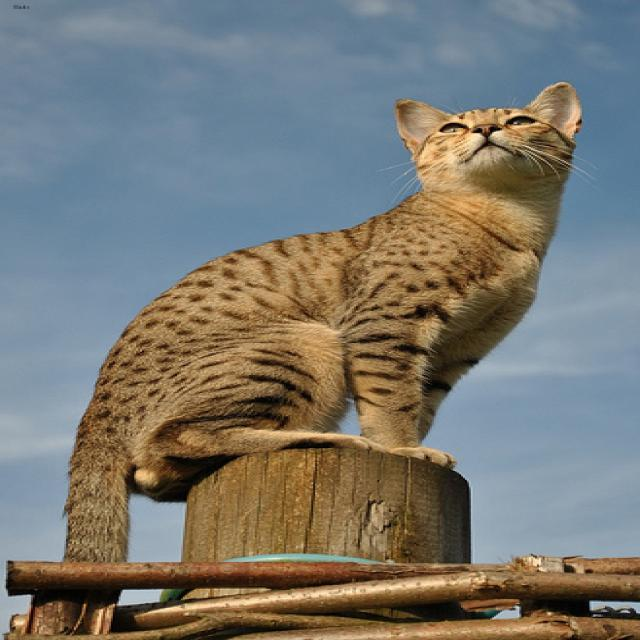Egyptian_Mau: (395, 79, 593, 190)
